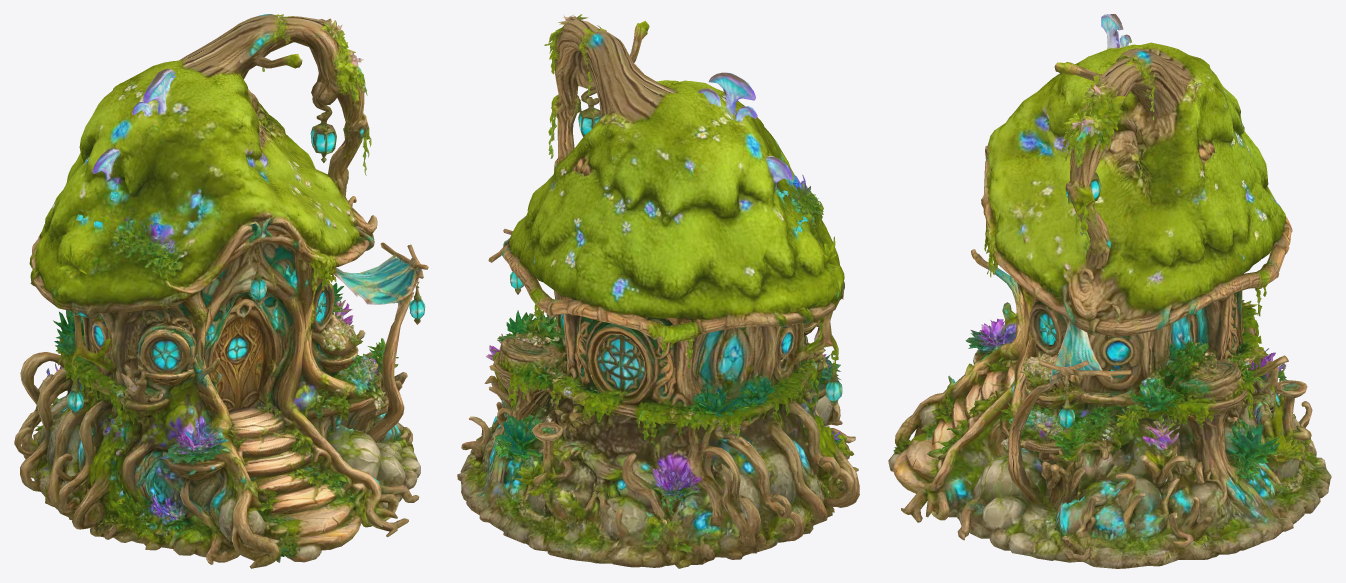
File: forest-dwelling.glb
3 renders of one model, left to right at view 1: azimuth 30°, elevation 25°; view 2: azimuth 150°, elevation 25°; view 3: azimuth 270°, elevation 25°, orthographic. The views are drawn at different scales.
Size of the model in its own units: 1.6 by 1.9 by 1.67.
1 material, 1 textured.
